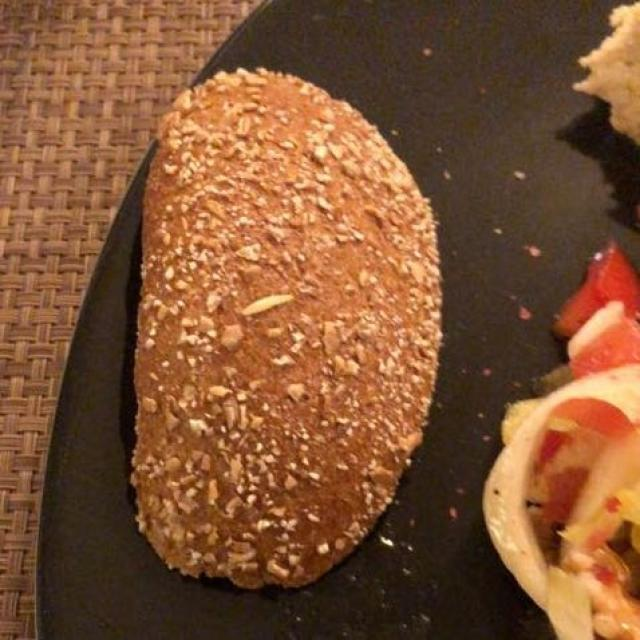bread: (102, 65, 438, 587)
